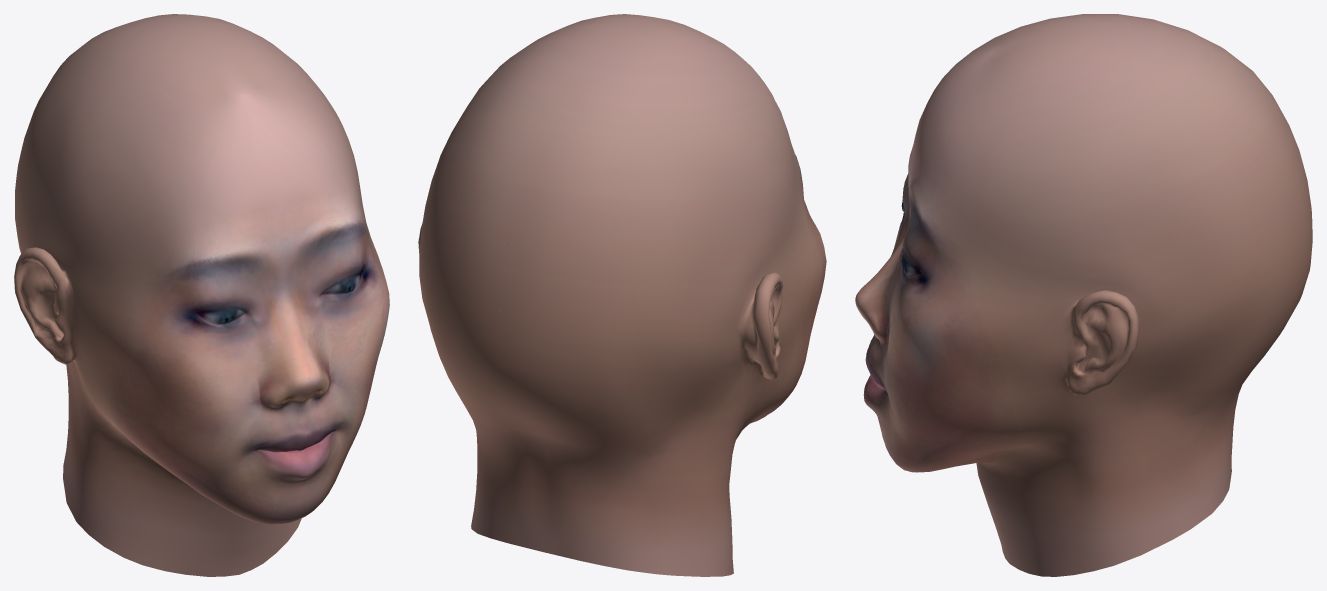
Rendered from Kathy.fbx.
3 renders of one model, left to right at view 1: azimuth 30°, elevation 25°; view 2: azimuth 150°, elevation 25°; view 3: azimuth 270°, elevation 25°, orthographic. The views are drawn at different scales.
Parts seen in each view (by area): view 1: HeadHires; view 2: HeadHires; view 3: HeadHires.
Boxes of the visible parts, x1,y1,x2,y2 form: HeadHires: [14, 14, 389, 576]; HeadHires: [418, 14, 826, 576]; HeadHires: [855, 14, 1312, 576].
Size of the model in its own units: 190 by 284 by 225.
